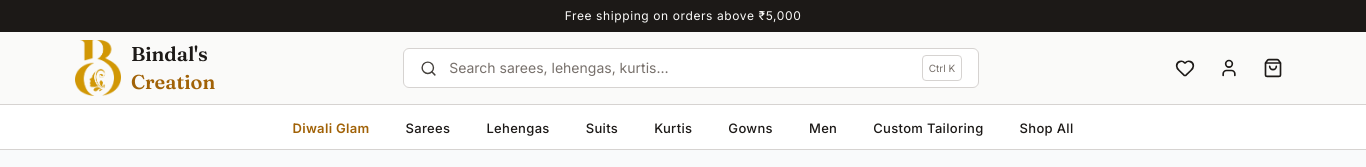
Test case: StorefrontHeader promo line › pauses while hovered
This screenshot has width=1366, height=167.
Hover over the element named "Promotions" at (683, 16), box [0, 0, 1365, 32]
Expected: the element named "Promotions" reads "Free shipping on orders above ₹5,000", [565, 8, 801, 23]
Move the pointer off the element named "Promotions", box [0, 0, 1365, 32]
Wait 4000 ms
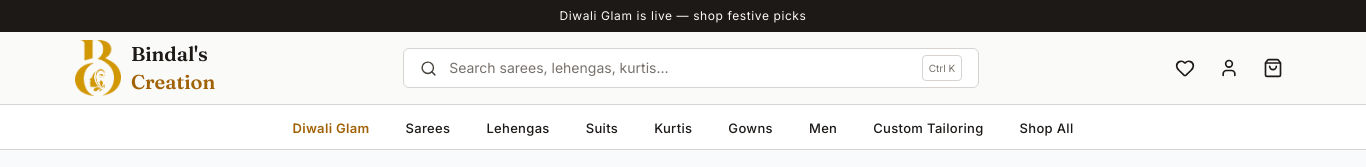
Expected: the element named "Promotions" reads "Diwali Glam is live — shop festive picks", [560, 8, 806, 23]
